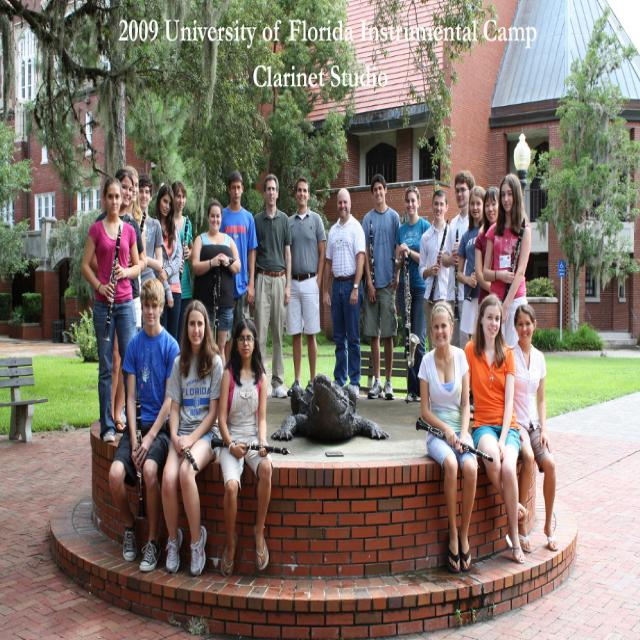clarinet: (412, 412, 496, 463), (500, 213, 529, 310), (132, 385, 151, 528), (102, 226, 124, 344), (209, 433, 292, 459), (426, 219, 451, 305), (452, 226, 461, 316), (367, 219, 378, 289), (179, 444, 203, 476), (213, 248, 220, 347)
